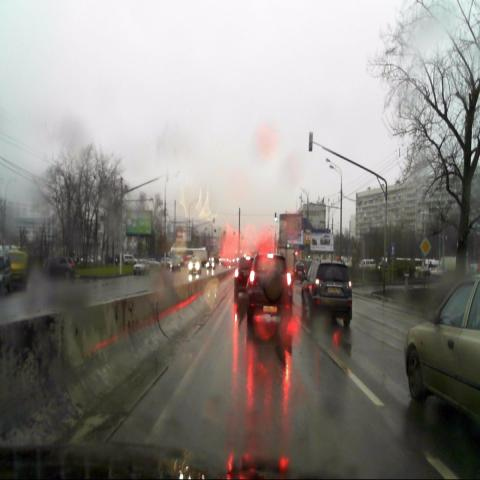2_1: (420, 237, 430, 257)
